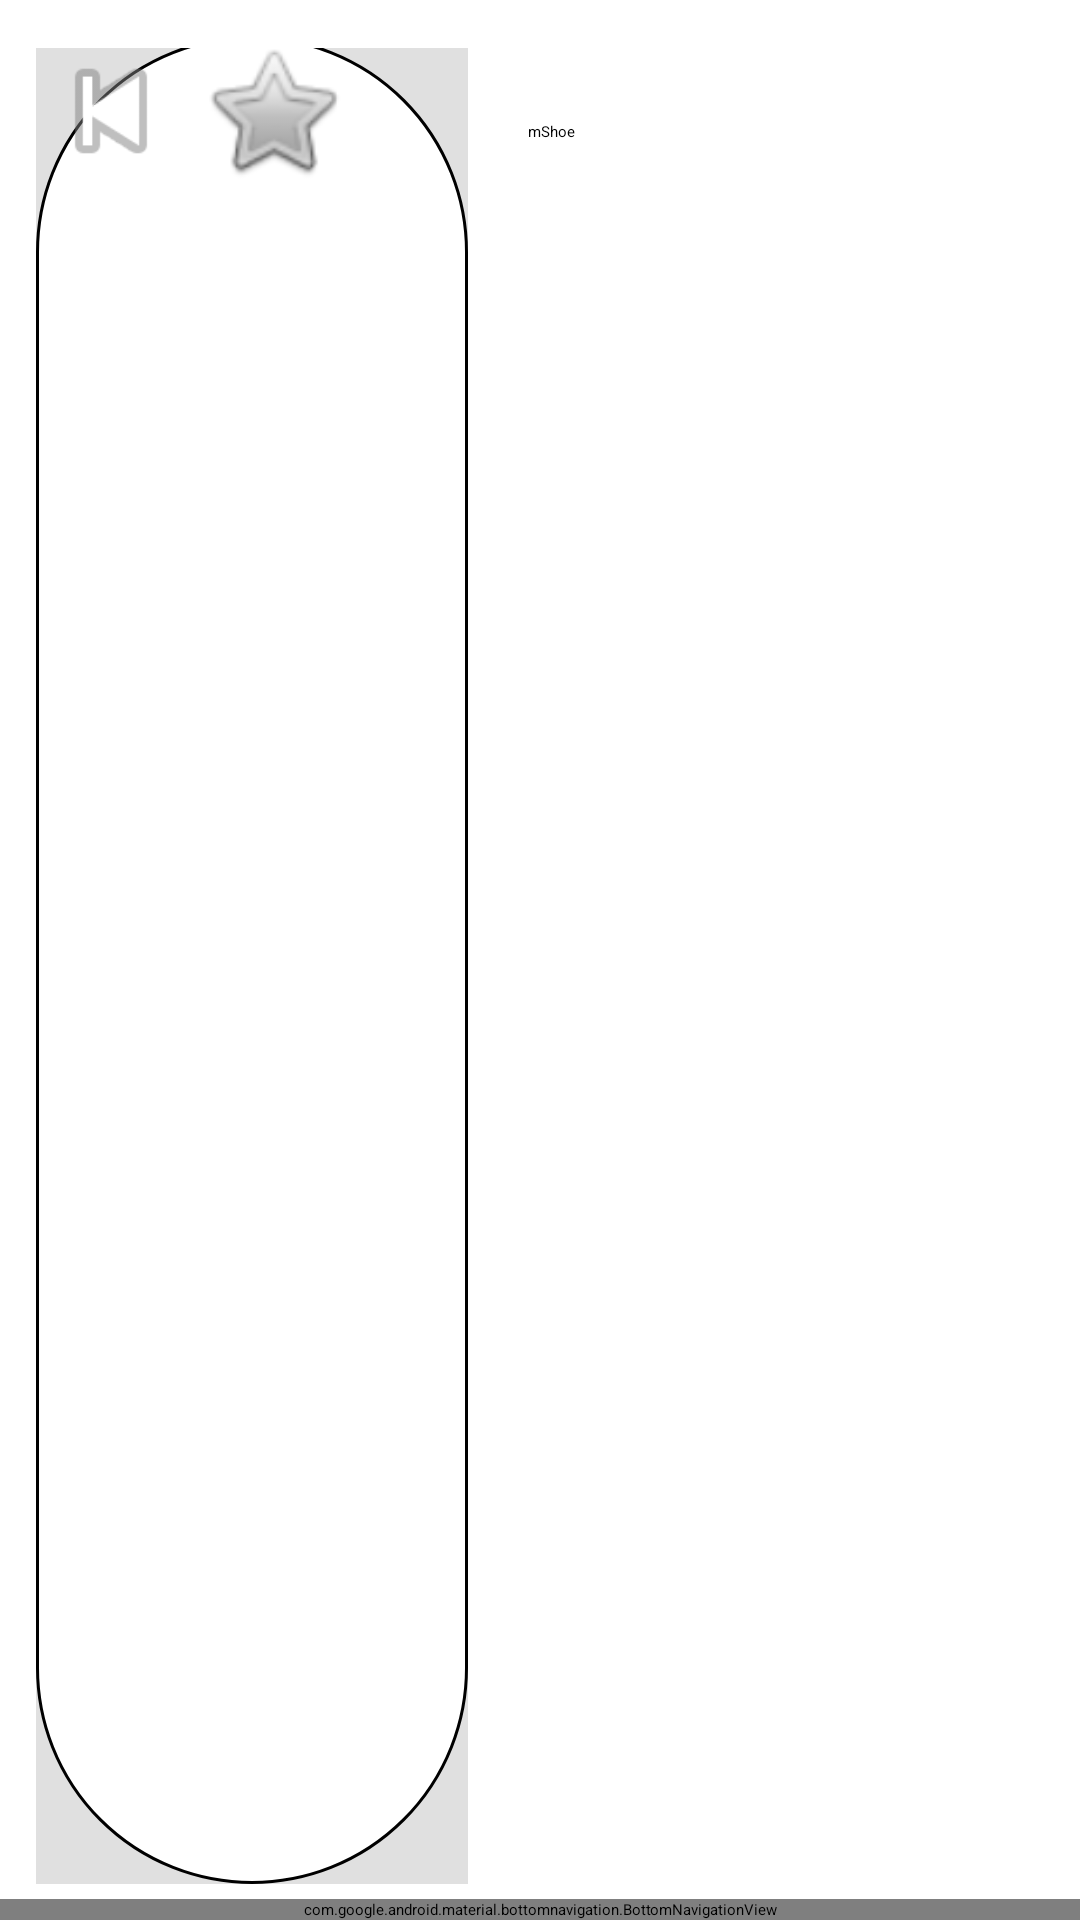

Screen size 1080x1920. Icon name, then its box in pixels as (x1, y1, x2, y2):
previous: (36, 48, 186, 186)
star: (212, 51, 337, 173)
